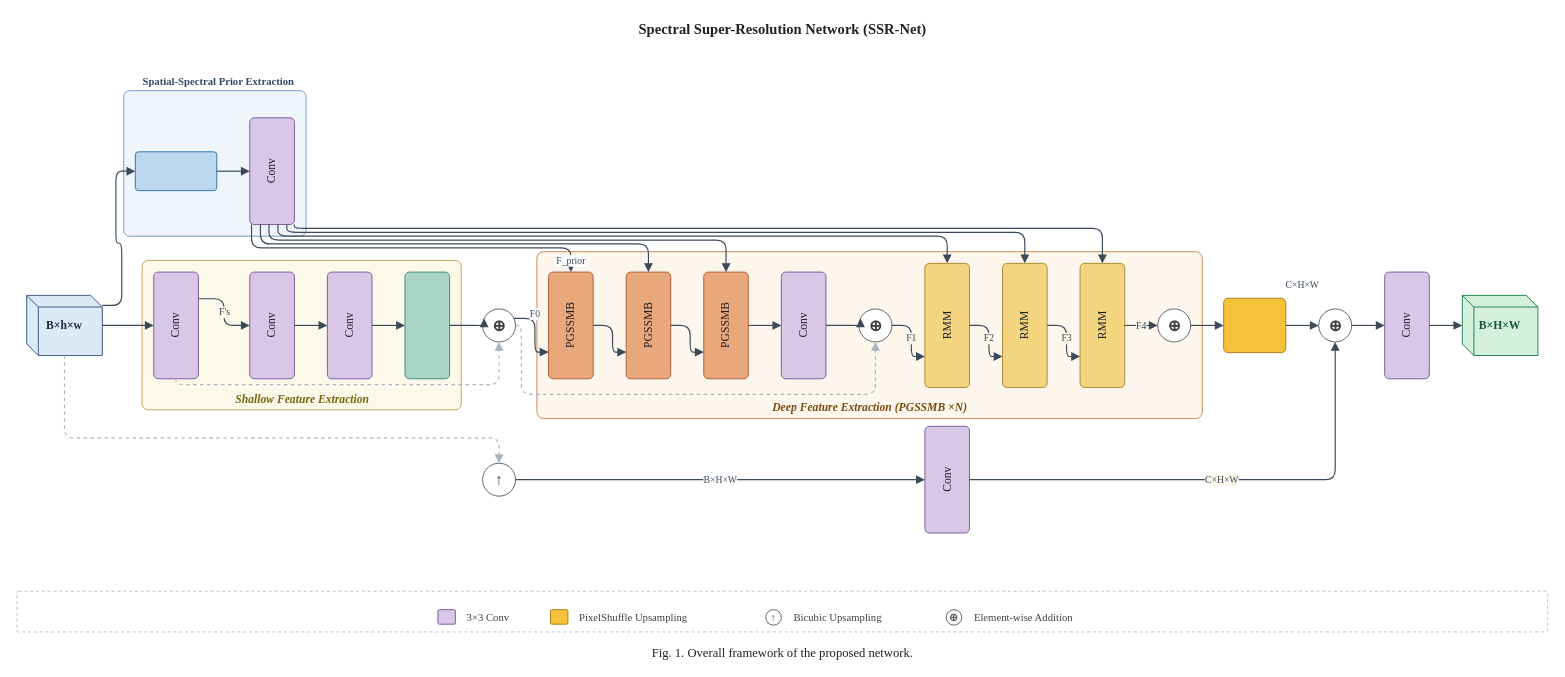
The diagram is 1565 pixels wide and 677 high, and some of its shapes have lost their labels. The shapes that lost their labels are listed below. From the top down, each one's centre as x and y in pixels, then its label:
At point 175,171: "SSPrior".
At point 427,325: "LeakyReLU".
At point 1254,325: "Upsample".
